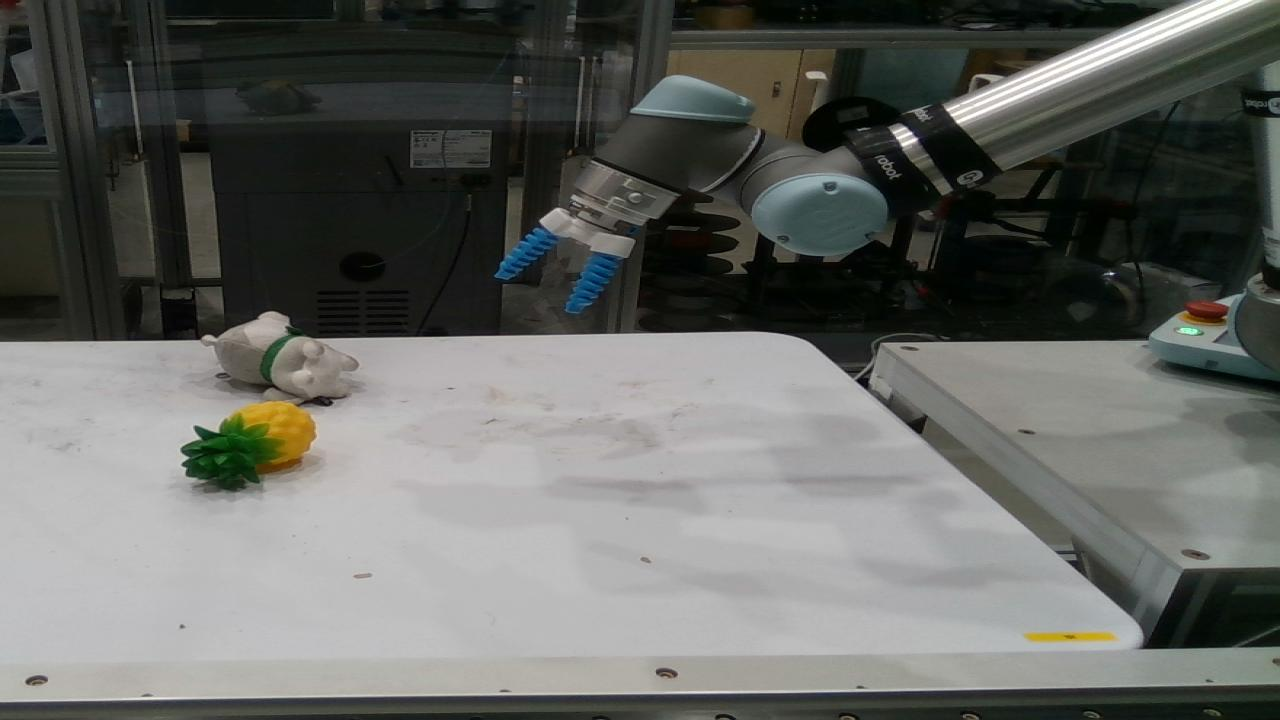UR5: (544, 0, 1276, 366)
gripper_left: (498, 228, 554, 278)
gripper_right: (572, 253, 616, 314)
target: (204, 312, 358, 404), (180, 403, 314, 489)
